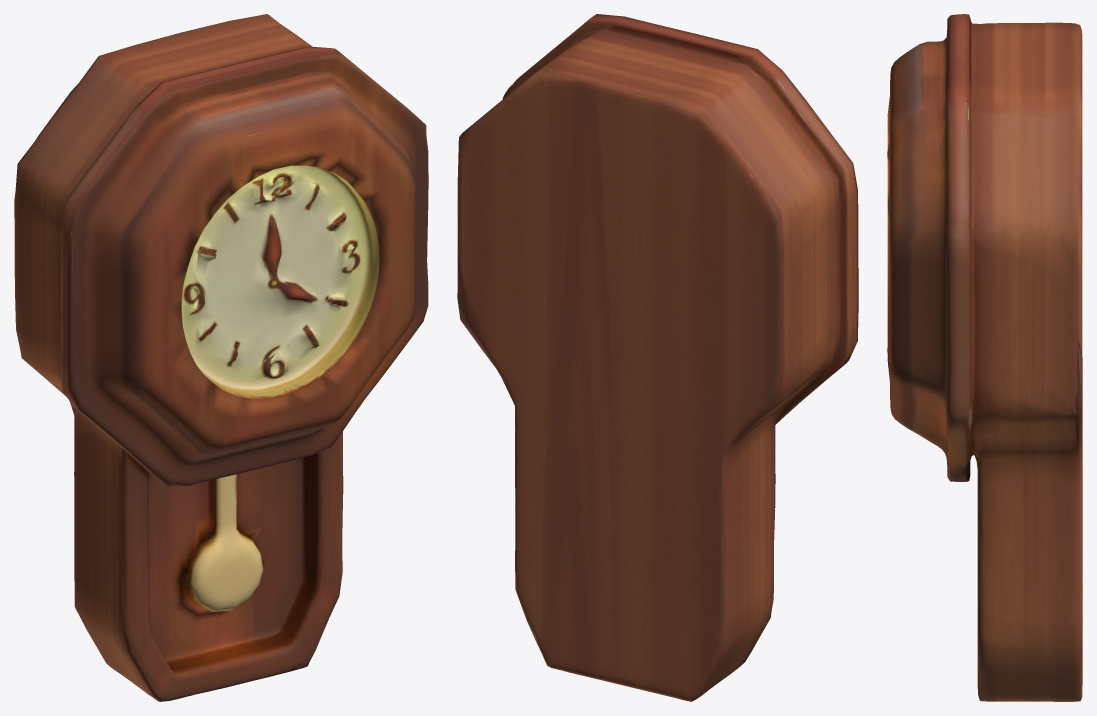
Rendered from WallClock.glb.
3 views of the same model, side by side, from view 1: azimuth 30°, elevation 25°; view 2: azimuth 150°, elevation 25°; view 3: azimuth 270°, elevation 25° (orthographic). The views are drawn at different scales.
Bounding box in the file's own units: 1.14 × 1.91 × 0.5482.
1 material, 1 textured.
